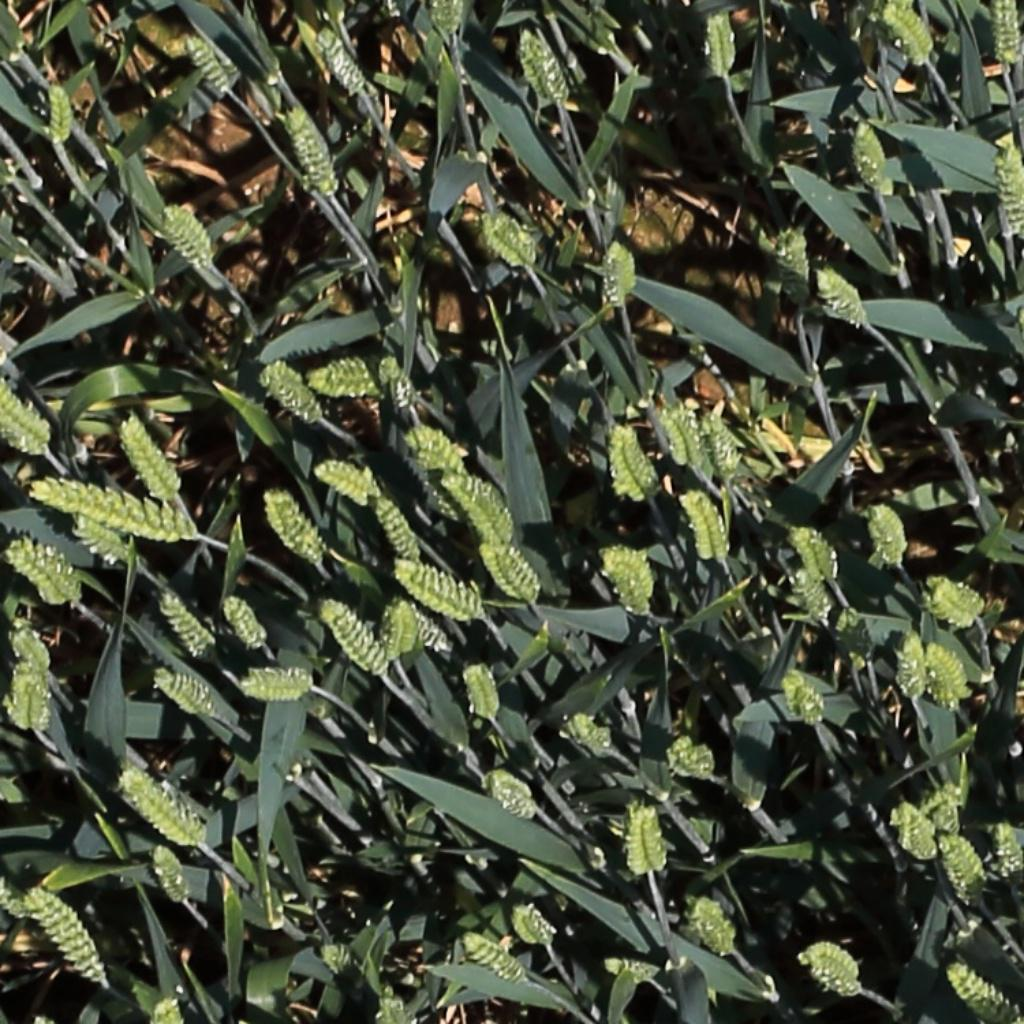0-0: (31, 481, 199, 539), (25, 884, 107, 987), (120, 768, 204, 849), (117, 409, 184, 505), (319, 598, 393, 681), (285, 99, 342, 200), (443, 469, 514, 546), (155, 587, 219, 666), (393, 562, 480, 618), (926, 640, 984, 721), (314, 21, 371, 102), (480, 539, 543, 611), (795, 939, 868, 1001), (0, 377, 53, 462), (5, 542, 79, 602), (521, 25, 573, 109), (260, 359, 324, 427), (370, 491, 425, 570), (682, 484, 731, 569), (178, 28, 236, 99), (613, 419, 660, 505), (936, 832, 987, 910), (602, 547, 656, 618), (159, 200, 215, 268), (640, 181, 699, 244), (816, 263, 873, 327), (883, 2, 939, 66), (461, 932, 528, 985), (917, 775, 970, 841), (304, 359, 380, 404), (148, 842, 196, 913), (853, 110, 894, 193), (688, 895, 741, 959), (659, 398, 704, 473), (790, 520, 839, 588), (704, 405, 745, 486), (231, 666, 316, 705), (789, 563, 838, 630), (218, 592, 270, 655), (152, 670, 218, 719), (993, 137, 1024, 241), (480, 212, 537, 267), (406, 427, 471, 475), (888, 801, 940, 861), (398, 599, 453, 655), (869, 496, 910, 570), (783, 666, 828, 733), (75, 516, 132, 566), (462, 658, 502, 729), (378, 349, 419, 417), (989, 817, 1022, 901), (925, 582, 985, 628), (776, 222, 816, 289), (4, 614, 51, 671), (315, 461, 376, 503), (484, 774, 539, 820), (510, 899, 558, 950), (603, 233, 634, 311), (567, 711, 617, 759), (641, 802, 669, 884), (385, 593, 416, 667), (708, 5, 737, 84), (897, 634, 924, 715), (628, 801, 652, 887), (669, 738, 716, 780), (0, 857, 30, 921), (995, 1, 1021, 70), (46, 76, 70, 148), (317, 939, 358, 980), (603, 958, 659, 981), (435, 0, 461, 43), (151, 989, 184, 1022)
